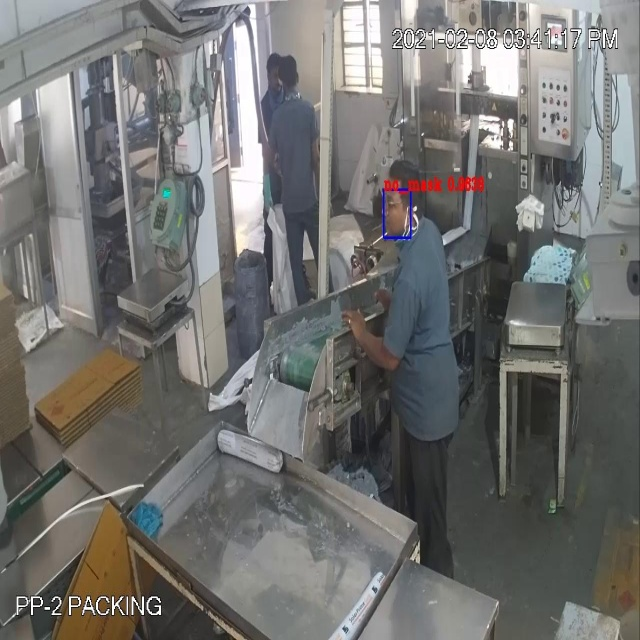Sin_guantes: (337, 302, 400, 391)
